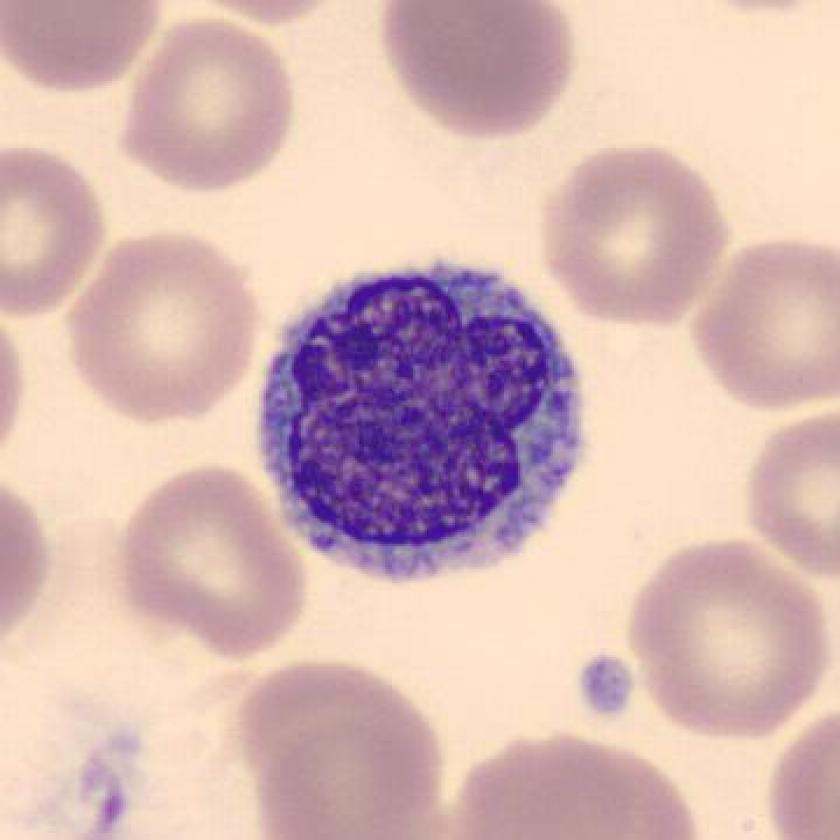monocyte: (234, 244, 608, 605)
